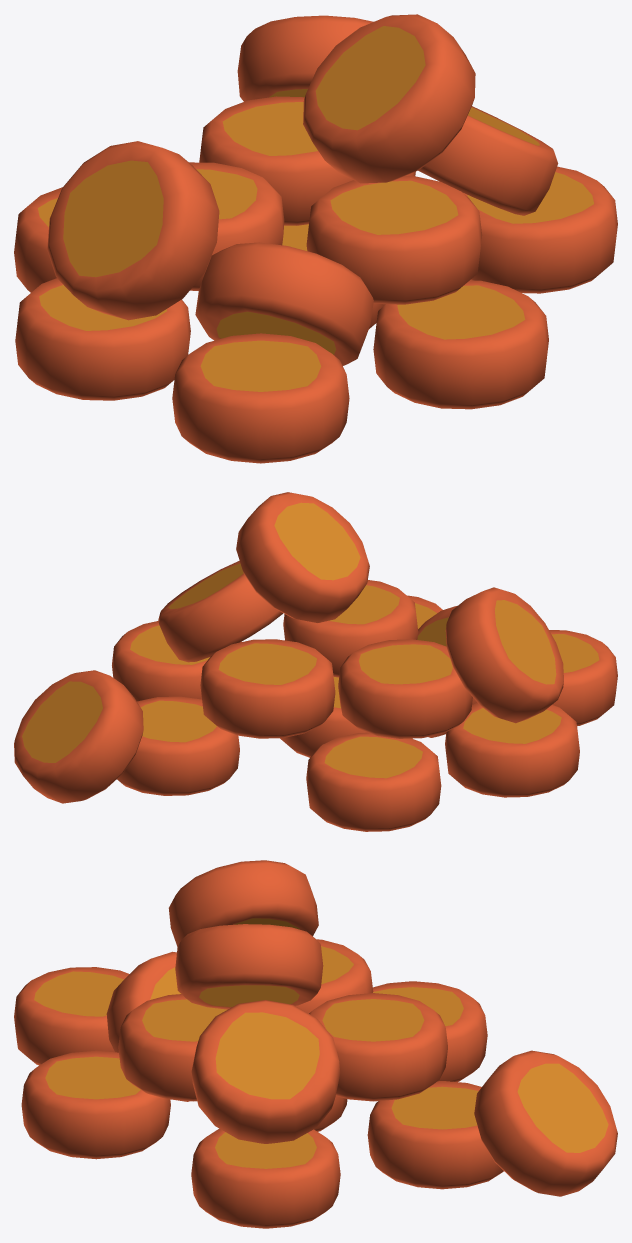
File: ASFTR_ChoppedCarrot.fbx
3 views of the same model, one above another, from view 1: azimuth 30°, elevation 25°; view 2: azimuth 150°, elevation 25°; view 3: azimuth 270°, elevation 25° (orthographic). The views are drawn at different scales.
Parts seen in each view (by area): view 1: ASFTR_ChoppedCarrot; view 2: ASFTR_ChoppedCarrot; view 3: ASFTR_ChoppedCarrot.
Boxes of the visible parts, x1,y1,x2,y2 form: ASFTR_ChoppedCarrot: (14, 14, 617, 463); ASFTR_ChoppedCarrot: (14, 492, 617, 831); ASFTR_ChoppedCarrot: (14, 860, 617, 1228).
Bounding box in the file's own units: 54.61 × 25.4 × 58.48.
